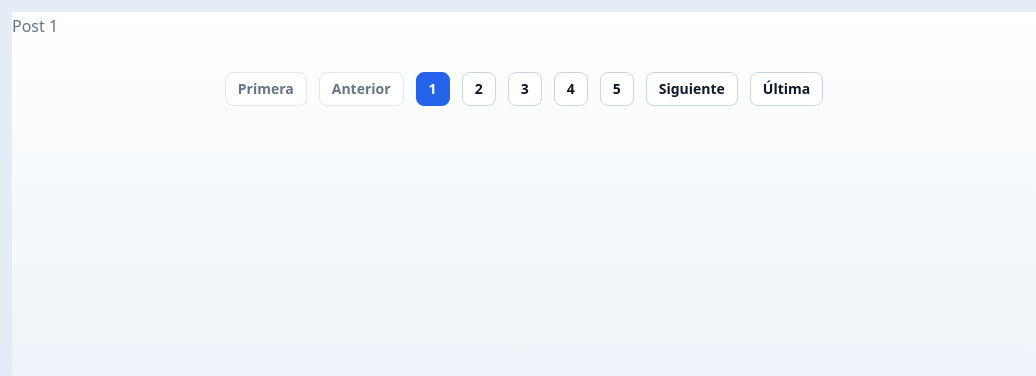
RuntimePage › renders a compact numbered pagination window for more than five pages
Click the button "Última": [786, 89] box [750,72,823,106]
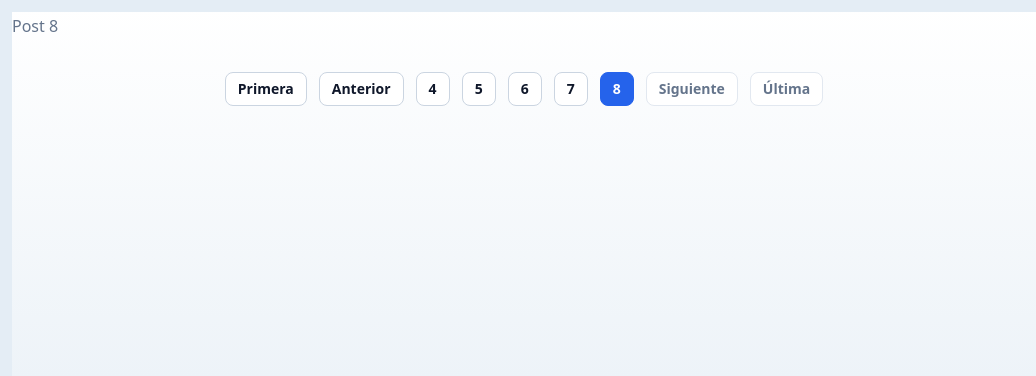
Result: the text "Post 8" is shown at [12,15,58,37]
